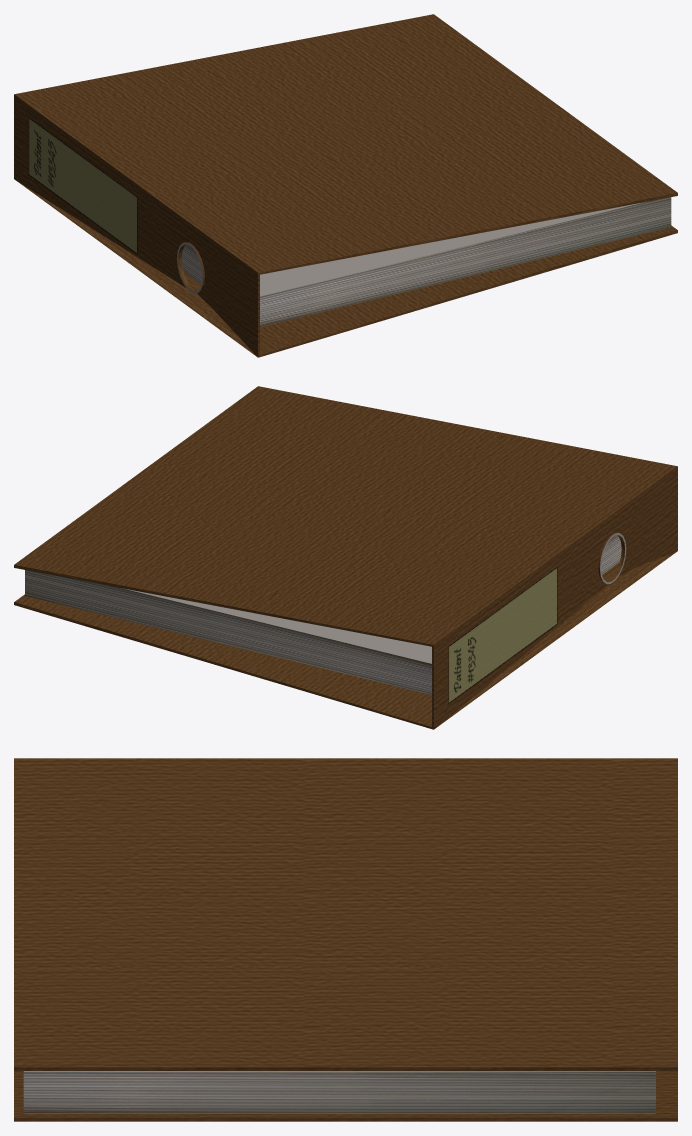
Rendered from folder 13345.FBX.
3 views of the same model, one above another, from view 1: azimuth 30°, elevation 25°; view 2: azimuth 150°, elevation 25°; view 3: azimuth 270°, elevation 25° (orthographic). The views are drawn at different scales.
Visible parts, largest first — view 1: Box001, Box002; view 2: Box001, Box002; view 3: Box001, Box002.
Boxes of the visible parts, <box> form: Box001: <box>14,14,677,357</box>; Box002: <box>181,197,671,327</box>; Box001: <box>14,386,677,729</box>; Box002: <box>25,535,621,694</box>; Box001: <box>14,758,677,1121</box>; Box002: <box>23,1071,655,1113</box>.
Bounding box in the file's own units: 51.52 × 9.91 × 51.7.
Materials: 2 (2 with a texture image).
